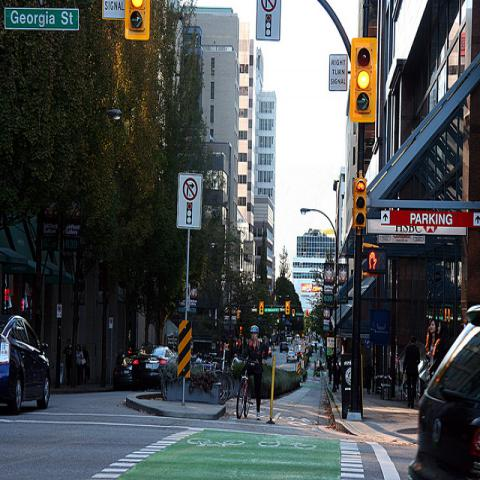car: (407, 303, 479, 479), (0, 315, 51, 414), (133, 345, 175, 392), (286, 350, 297, 362), (308, 341, 323, 349), (279, 342, 289, 353), (268, 346, 272, 358)
